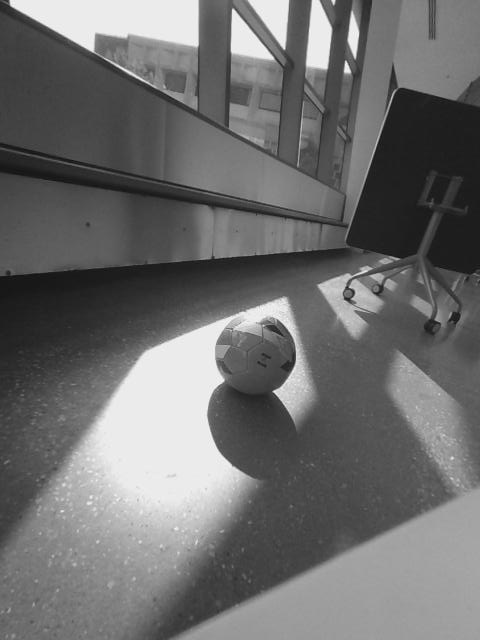ball: (211, 310, 299, 397)
